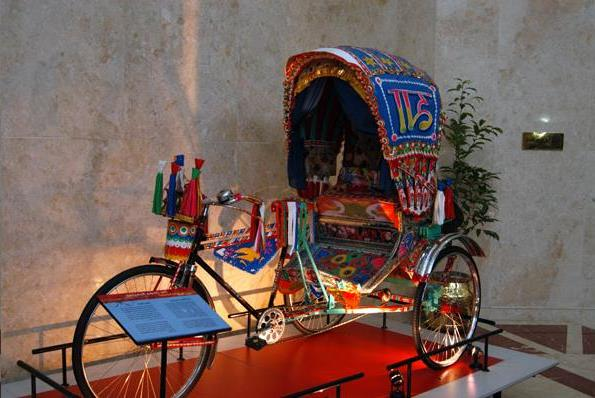Rickshaw: (68, 36, 479, 356)
